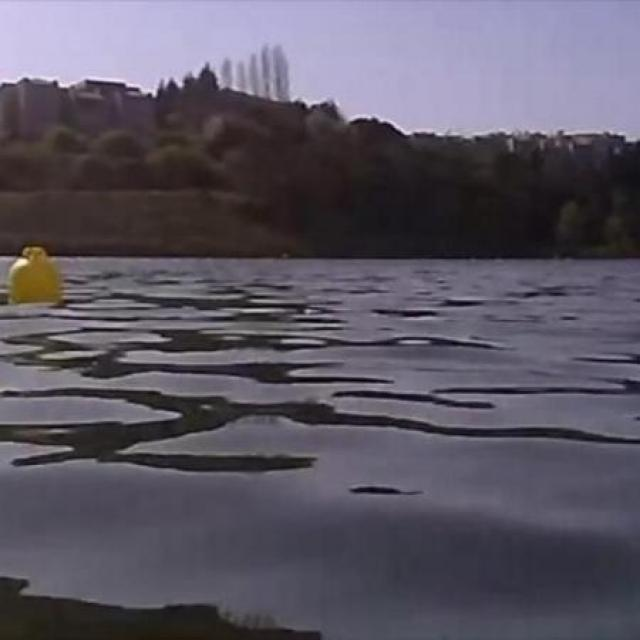buoy: (11, 247, 60, 305)
